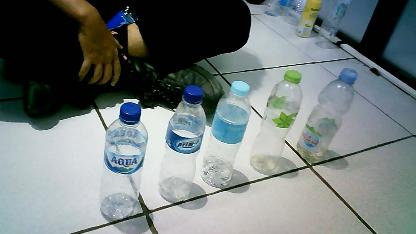Plastic Bottle: (296, 47, 370, 174), (156, 86, 210, 208), (96, 101, 148, 226), (199, 76, 255, 192), (250, 68, 306, 176)
